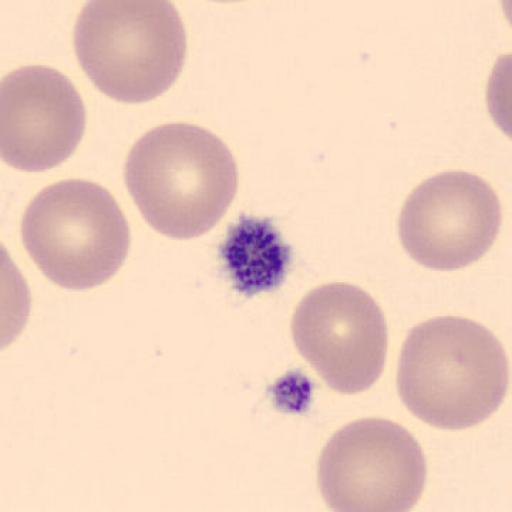Platelet: (215, 212, 297, 299)
RBC: (122, 120, 240, 242), (395, 314, 510, 434), (18, 176, 132, 292), (70, 1, 188, 105), (288, 279, 390, 398), (396, 168, 504, 274), (314, 413, 428, 512), (2, 62, 88, 175), (1, 245, 32, 353), (485, 49, 512, 146), (499, 0, 512, 38)
